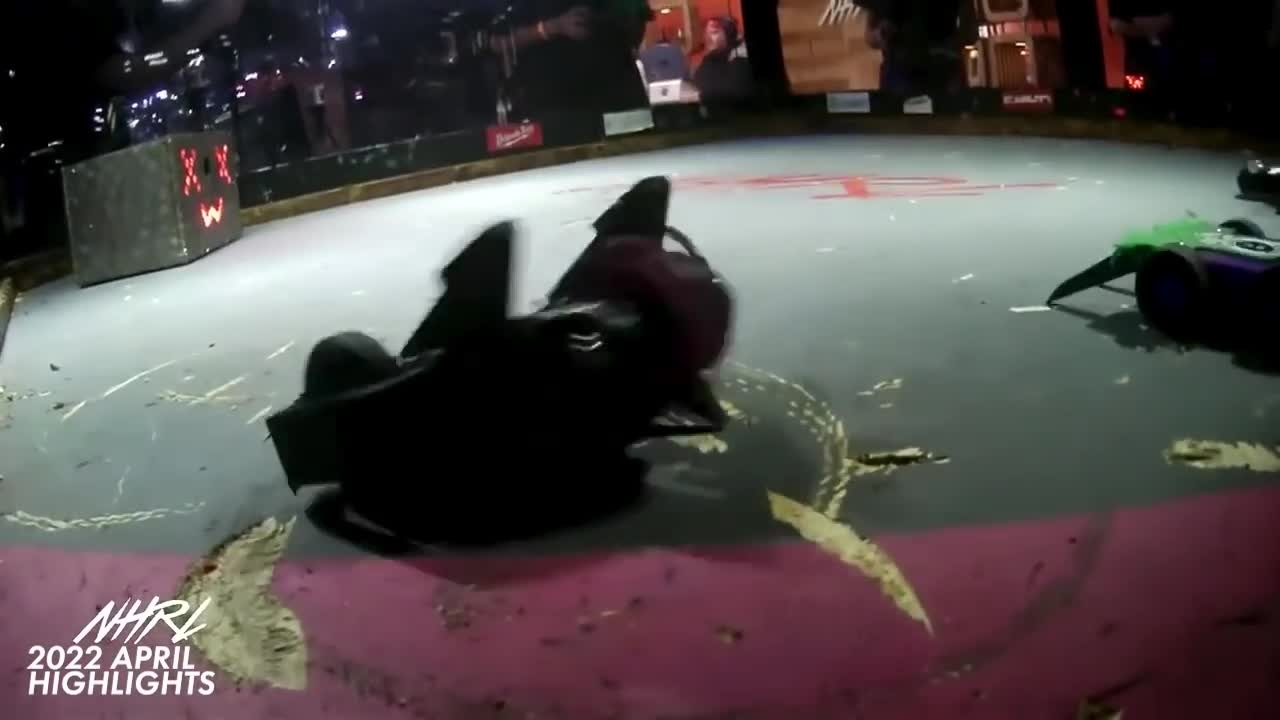combatbot: (257, 177, 747, 566), (1043, 211, 1280, 370)
housebot: (56, 123, 248, 287)
minibot: (1234, 155, 1280, 205)
